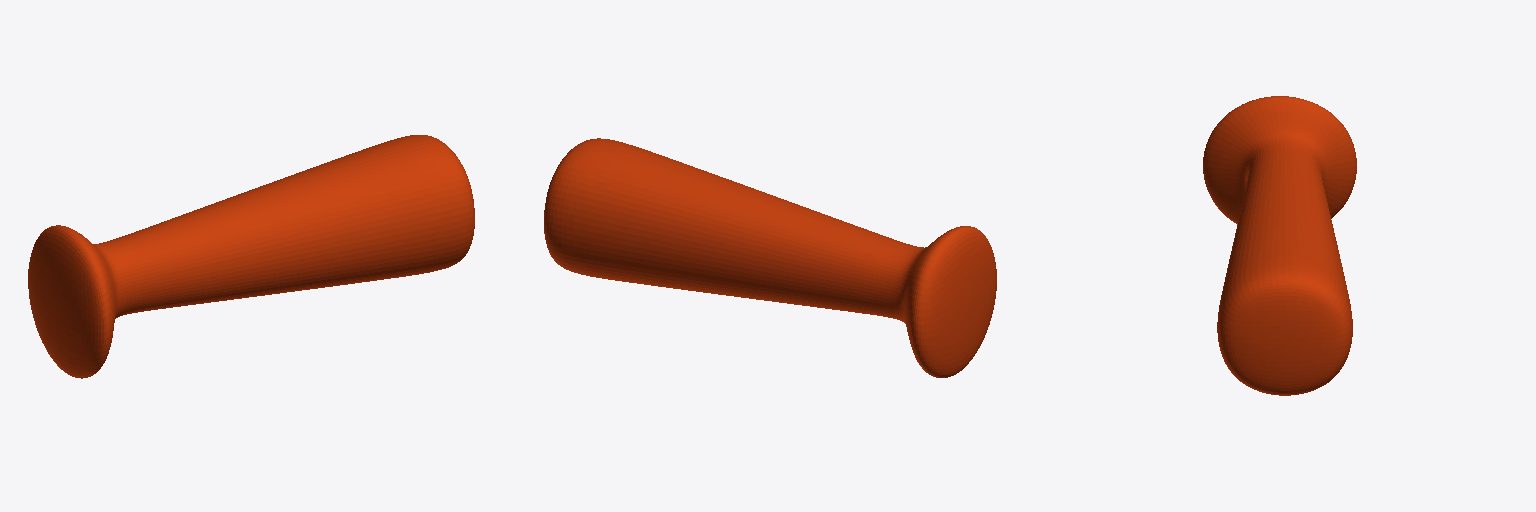
The model's file is baeballbat.obj.
The picture shows the model from 3 angles: view 1: azimuth 30°, elevation 25°; view 2: azimuth 150°, elevation 25°; view 3: azimuth 270°, elevation 25°; orthographic projection.
Parts seen in each view (by area): view 1: Cube; view 2: Cube; view 3: Cube.
Boxes of the visible parts, <box> form: Cube: <box>28,135,474,378</box>; Cube: <box>544,138,996,377</box>; Cube: <box>1203,96,1356,395</box>.
Size of the model in its own units: 12.15 by 4.12 by 4.05.